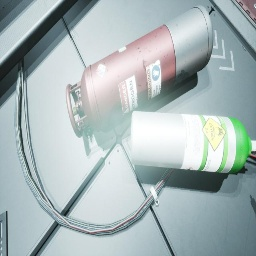0: (130, 111, 256, 173)
NitrogenTank ,: (66, 6, 214, 138)
